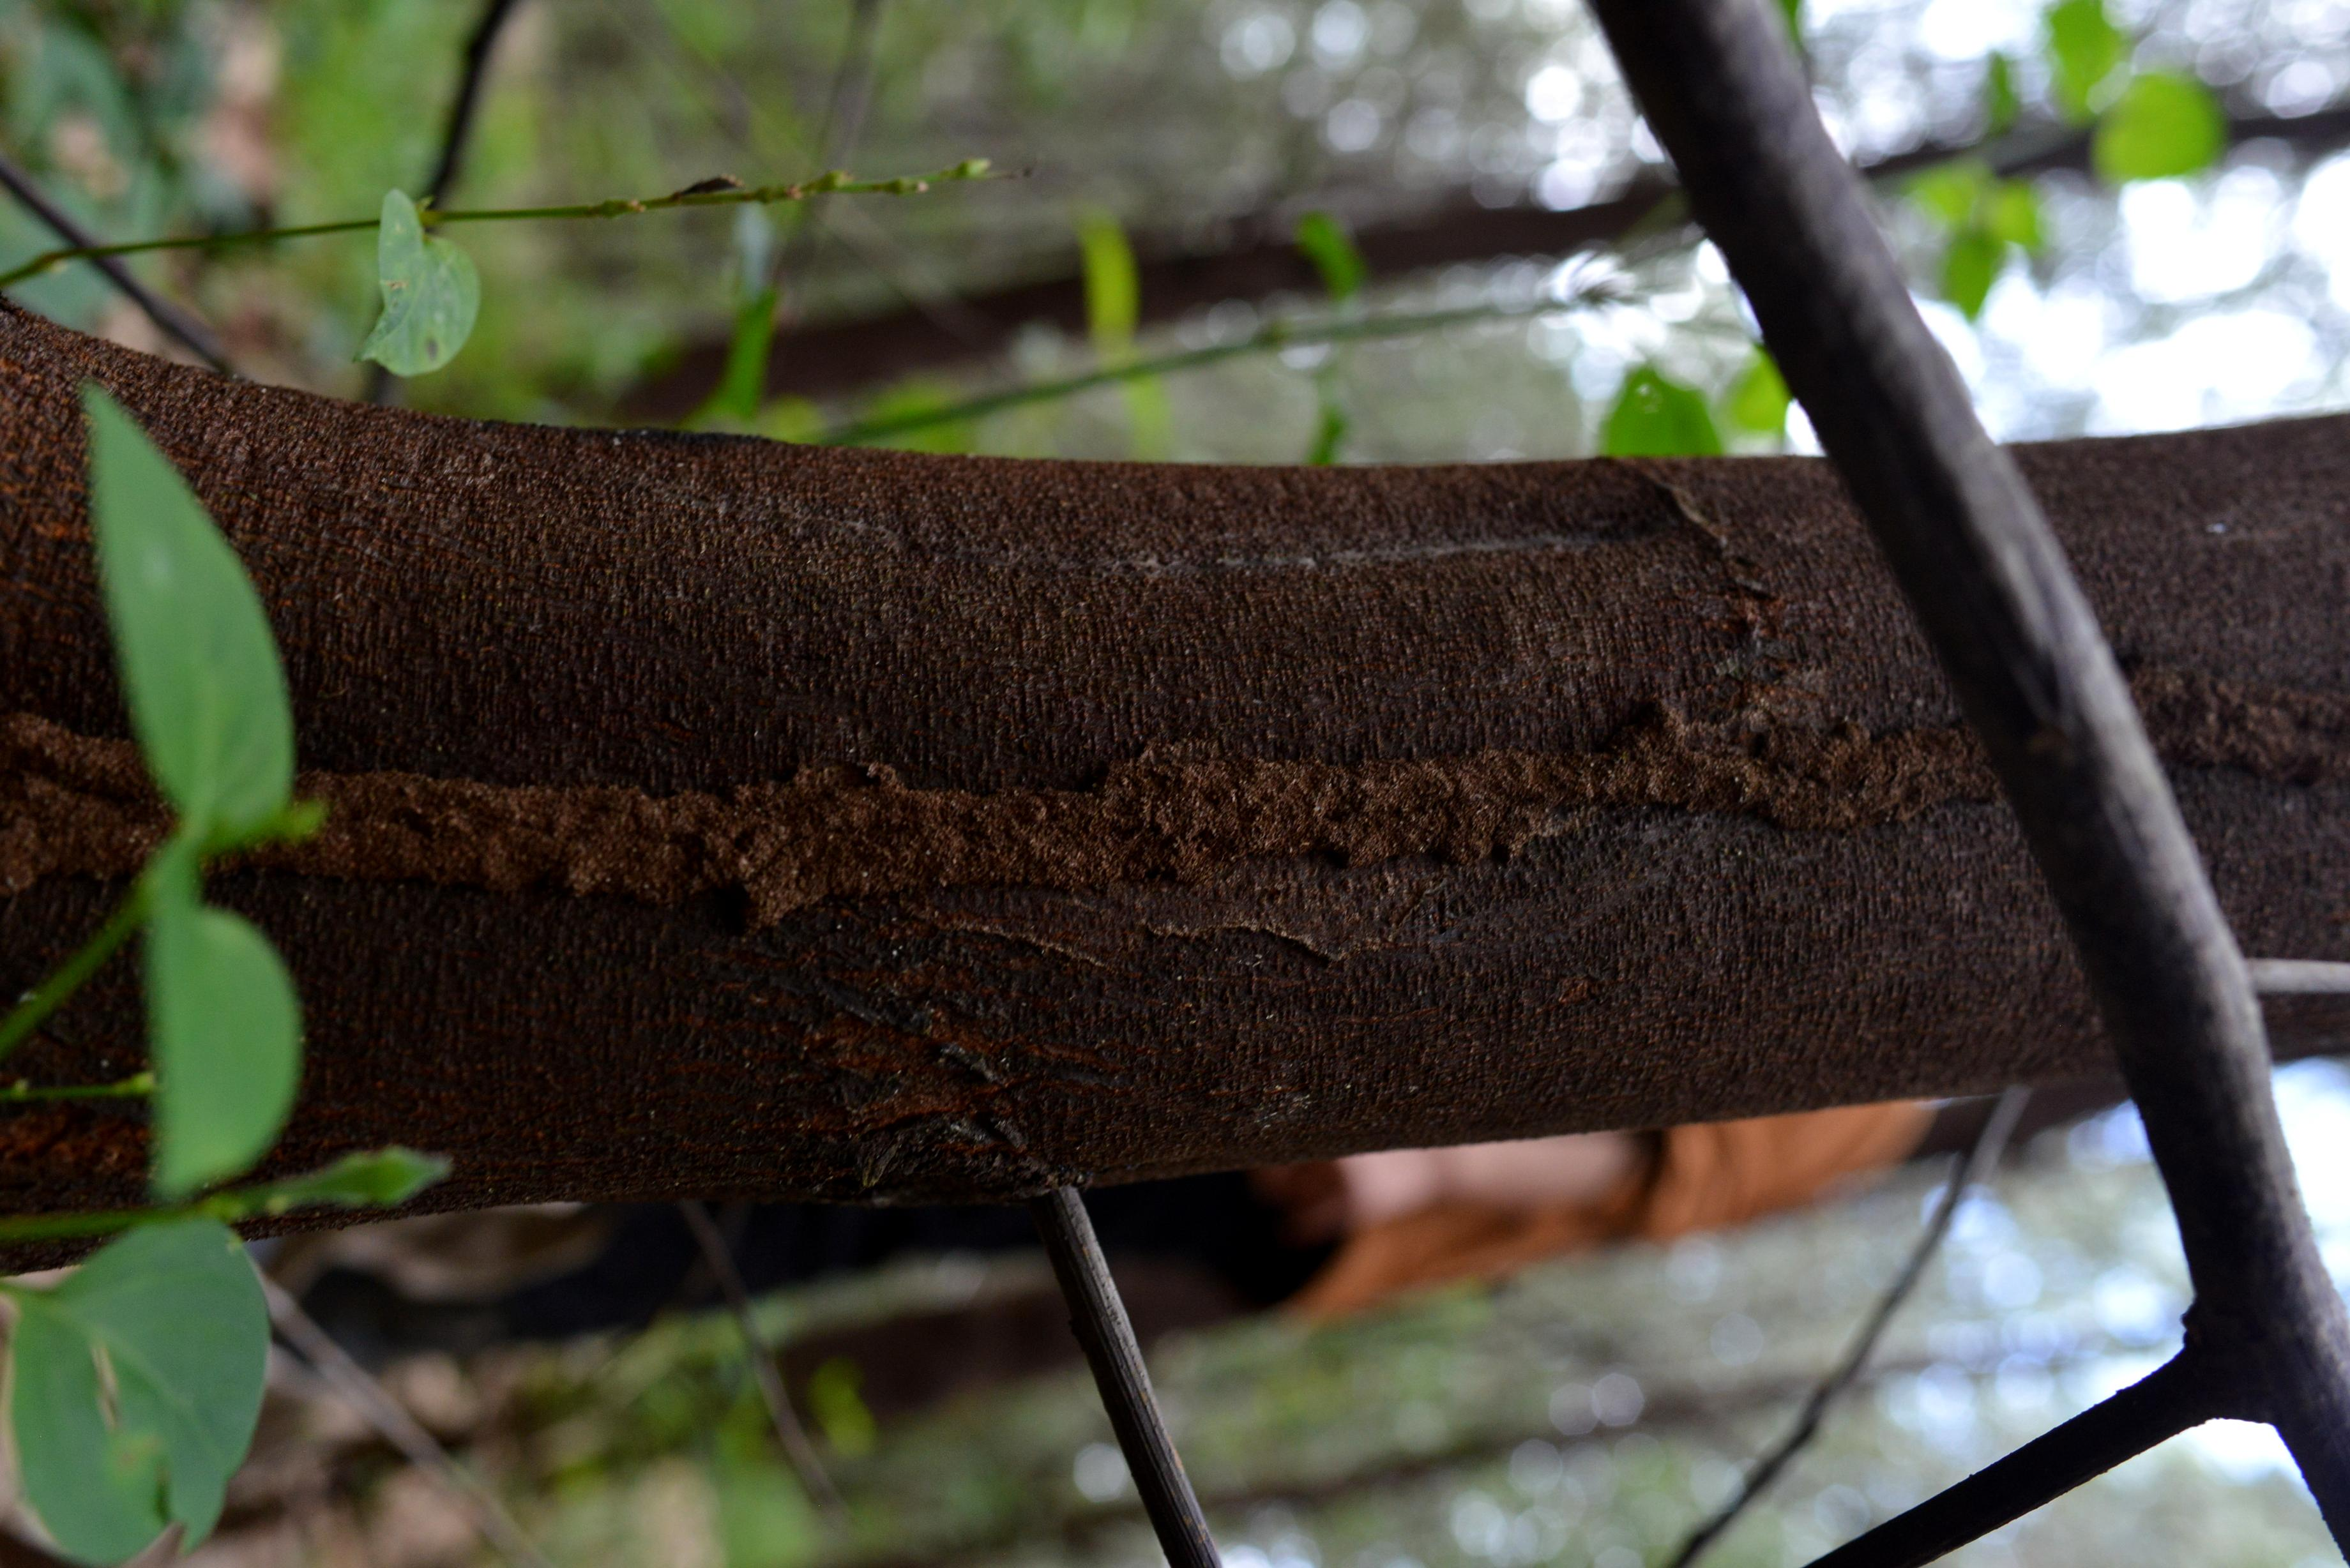Termite - Nest: (317, 661, 1997, 941), (2147, 614, 2350, 791), (0, 742, 143, 884)
